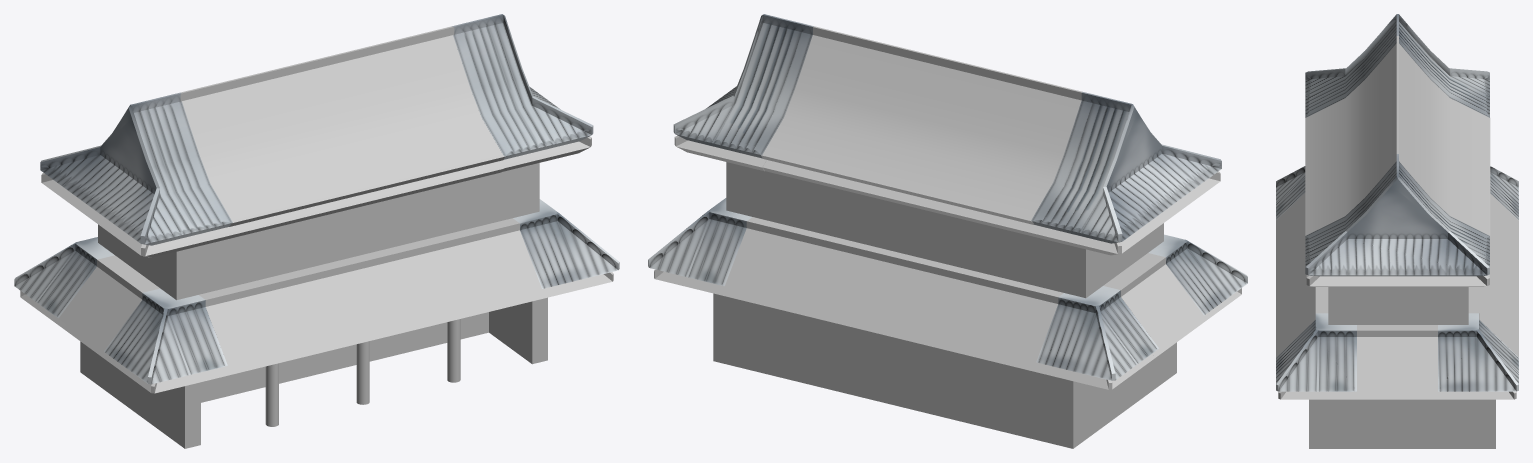
The model's file is shrine 2 (light).fbx.
3 views of the same model, side by side, from view 1: azimuth 30°, elevation 25°; view 2: azimuth 150°, elevation 25°; view 3: azimuth 270°, elevation 25° (orthographic). The views are drawn at different scales.
Parts seen in each view (by area): view 1: low poly roof 091; view 2: low poly roof 091; view 3: low poly roof 091.
Part boxes in pixels (left/top/right/bottom): low poly roof 091: left=14, top=14, right=619, bottom=448; low poly roof 091: left=648, top=14, right=1247, bottom=448; low poly roof 091: left=1276, top=14, right=1518, bottom=448.
Bounding box in the file's own units: 236 × 148 × 118.
